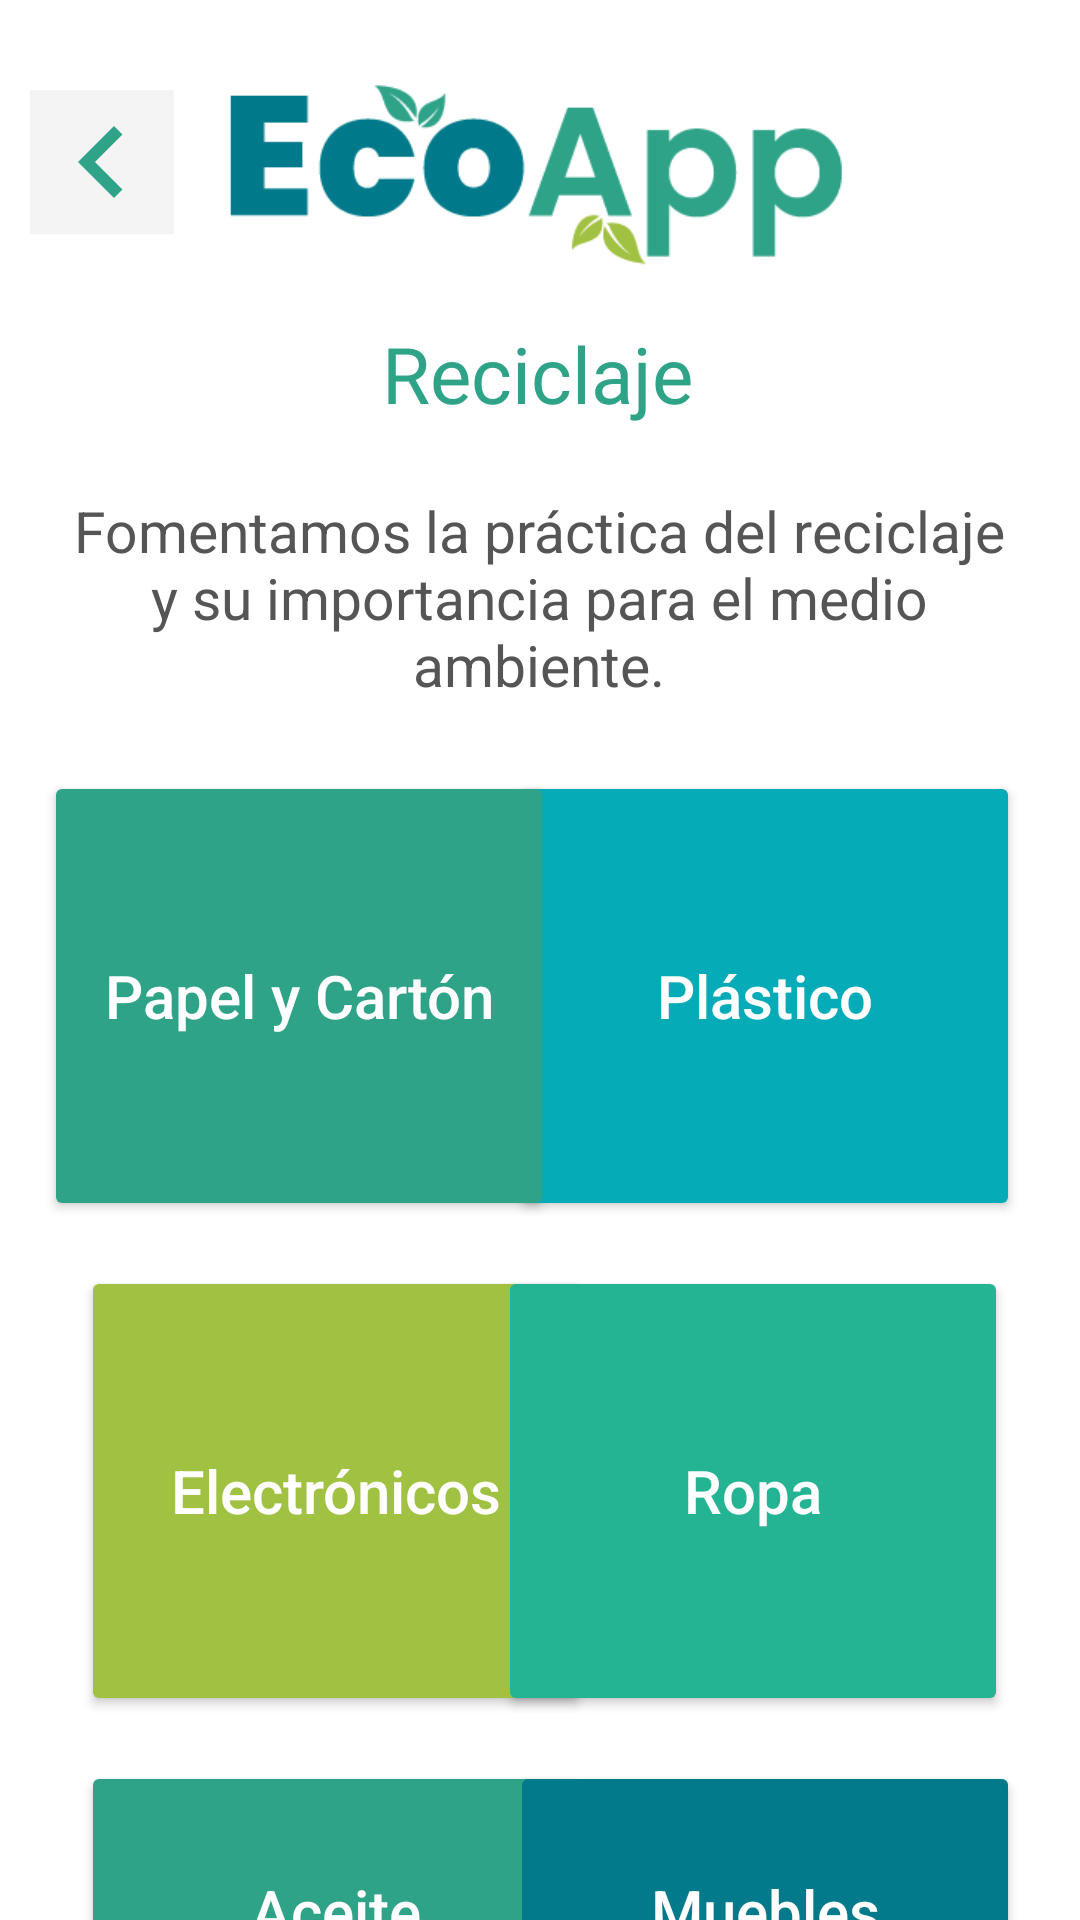

Screen size 1080x1920. Icon name, then its box in pixels as (x1, y1, x2, y2):
volver atras: (30, 90, 174, 234)
